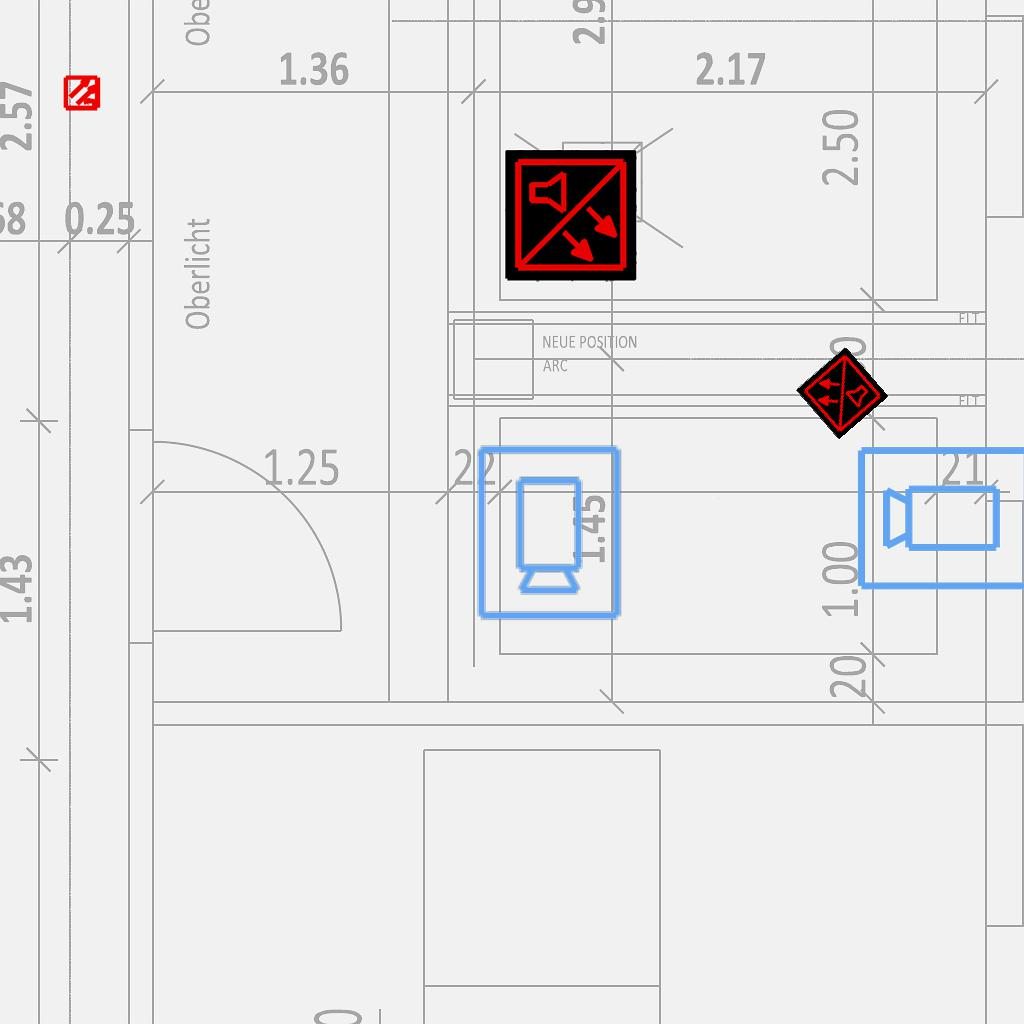KFO_Kamera_mit_Festobjektiv: (471, 441, 625, 623), (854, 440, 1024, 594)
OKW_Multisensormelder_(Kombination_optischer_Rauch-Kahlenmonoxid_Waerme-Melder): (505, 150, 637, 282), (795, 346, 889, 440)
OT_Multisensormelder_(Kombination_RMO_WMD): (55, 65, 111, 121)
